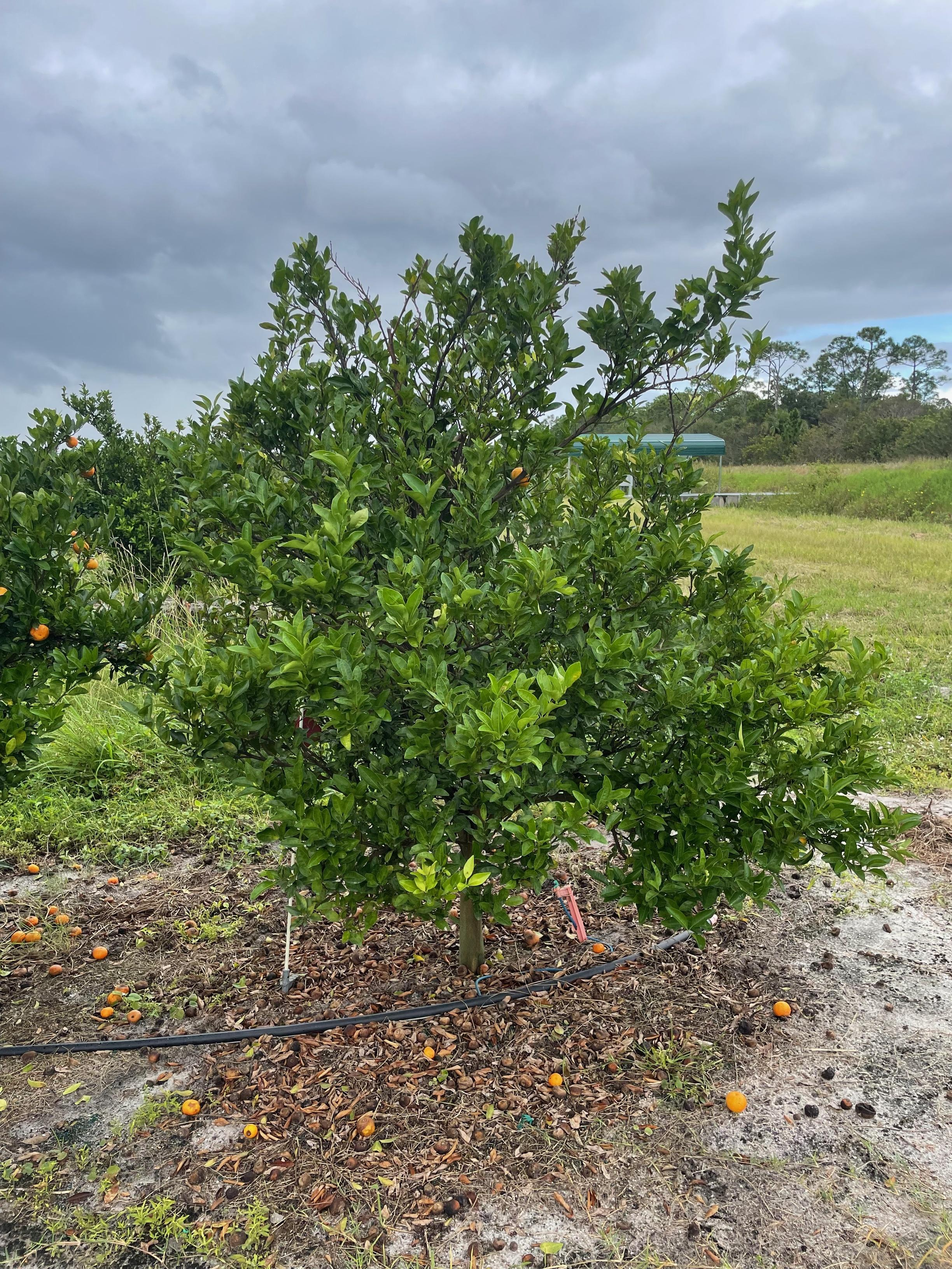fruit_on_ground: (508, 463, 534, 489), (27, 622, 52, 644), (71, 537, 93, 557), (77, 461, 98, 479), (137, 646, 156, 664), (82, 556, 100, 572), (64, 434, 80, 450)
fruit_on_tree: (353, 1113, 378, 1138), (724, 1088, 748, 1114), (224, 1225, 249, 1249), (771, 999, 792, 1019), (180, 1097, 202, 1116), (546, 1070, 565, 1089), (521, 931, 542, 948), (442, 1198, 461, 1216), (241, 1122, 259, 1139), (552, 867, 571, 883), (104, 991, 122, 1007), (124, 1008, 143, 1023), (91, 944, 108, 960), (342, 1155, 360, 1170), (422, 1043, 438, 1059), (473, 960, 490, 975), (113, 982, 131, 996), (433, 1139, 450, 1153), (24, 929, 42, 942), (591, 940, 607, 954), (26, 861, 41, 874), (99, 1005, 114, 1018), (69, 925, 84, 938), (53, 912, 69, 924), (605, 1060, 619, 1073), (840, 1096, 854, 1109), (9, 930, 23, 942), (12, 965, 27, 976), (48, 964, 63, 975), (107, 874, 120, 886), (47, 903, 60, 915), (26, 914, 39, 925)
